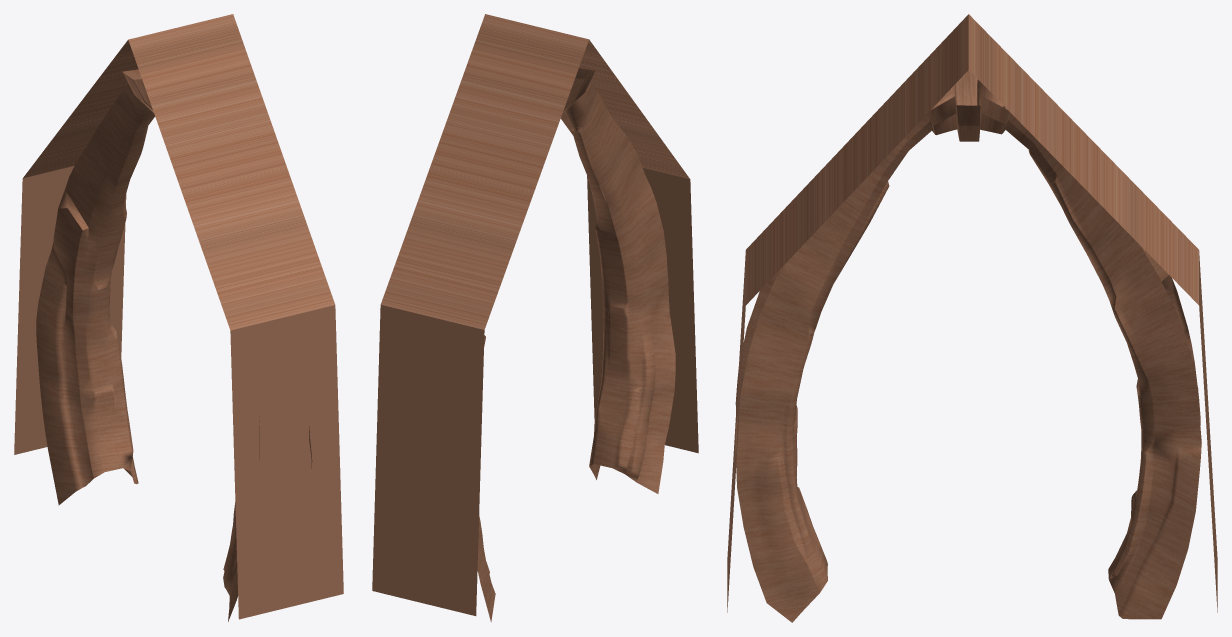
Rendered from Geonosis_Tunnel02_Archway.fbx.
The picture shows the model from 3 angles, left to right: view 1: azimuth 30°, elevation 25°; view 2: azimuth 150°, elevation 25°; view 3: azimuth 270°, elevation 25°; orthographic projection. The views are drawn at different scales.
Visible parts, largest first — view 1: Geonosis_Tunnel02_Archway; view 2: Geonosis_Tunnel02_Archway; view 3: Geonosis_Tunnel02_Archway.
Part boxes in pixels (bbox=[...]): Geonosis_Tunnel02_Archway: bbox=[14, 14, 343, 621]; Geonosis_Tunnel02_Archway: bbox=[372, 14, 698, 622]; Geonosis_Tunnel02_Archway: bbox=[727, 14, 1217, 622].
Size of the model in its own units: 121 by 580 by 445.
